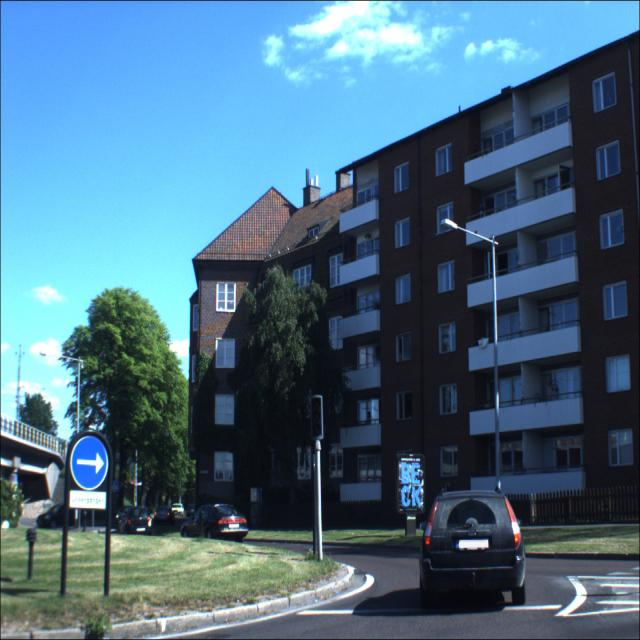Turn Right: (63, 433, 111, 496)
